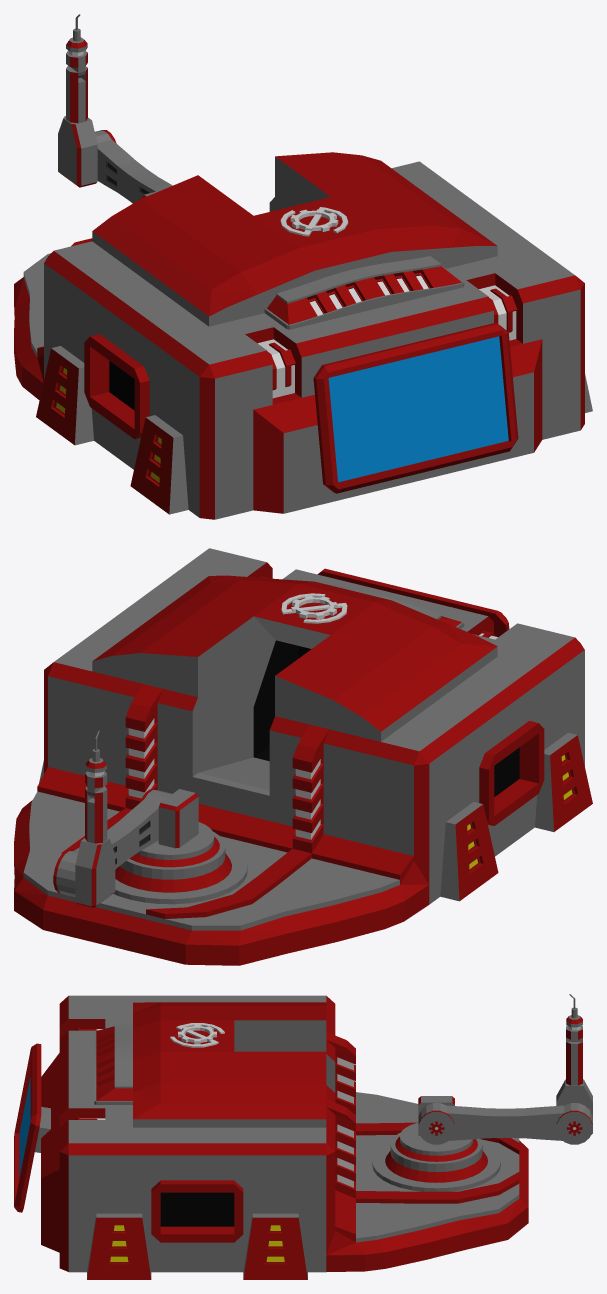
Rendered from Factory.obj.
The picture shows the model from 3 angles, top to bottom: view 1: azimuth 30°, elevation 25°; view 2: azimuth 150°, elevation 25°; view 3: azimuth 270°, elevation 25°; orthographic projection. The views are drawn at different scales.
Visible parts, largest first — view 1: Cylinder.003; view 2: Cylinder.003; view 3: Cylinder.003.
Part boxes in pixels (box(x1,y1,x2,y2)): Cylinder.003: box(14, 14, 592, 519); Cylinder.003: box(14, 548, 592, 965); Cylinder.003: box(14, 994, 592, 1279).
Bounding box in the file's own units: 4.4 × 2.36 × 6.29.
